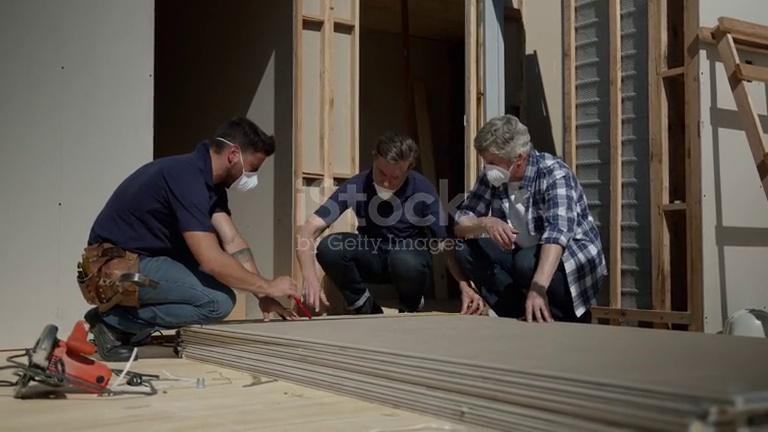helmet: (722, 308, 768, 337)
mask: (226, 169, 259, 196), (482, 165, 510, 188)
person: (73, 117, 299, 363), (296, 134, 486, 315), (452, 114, 609, 325)
